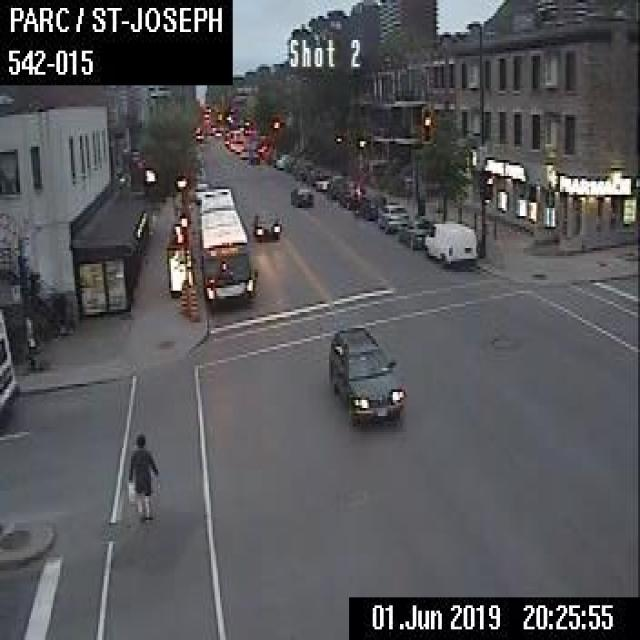bus: (196, 185, 257, 304)
construction: (188, 283, 198, 318), (178, 280, 186, 310)
pedestrian: (126, 431, 158, 520)
vehicle: (326, 323, 406, 421), (424, 219, 474, 267), (0, 304, 15, 405), (396, 216, 429, 248), (376, 201, 407, 232), (252, 208, 280, 240), (357, 190, 385, 218), (336, 179, 364, 207), (289, 183, 311, 206), (325, 172, 345, 197), (313, 168, 332, 188), (192, 180, 207, 202)
